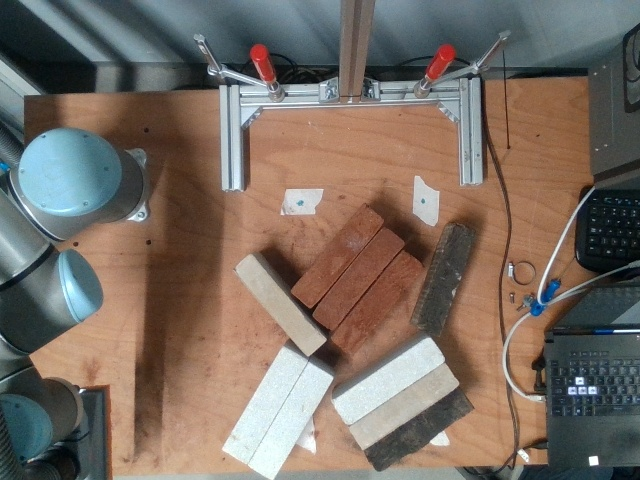brick-side: (336, 339, 444, 423), (350, 364, 458, 448), (365, 389, 473, 472), (233, 255, 322, 355), (224, 351, 304, 461), (250, 367, 330, 476), (294, 207, 382, 306), (314, 227, 402, 326), (333, 252, 421, 351), (420, 226, 478, 335)
